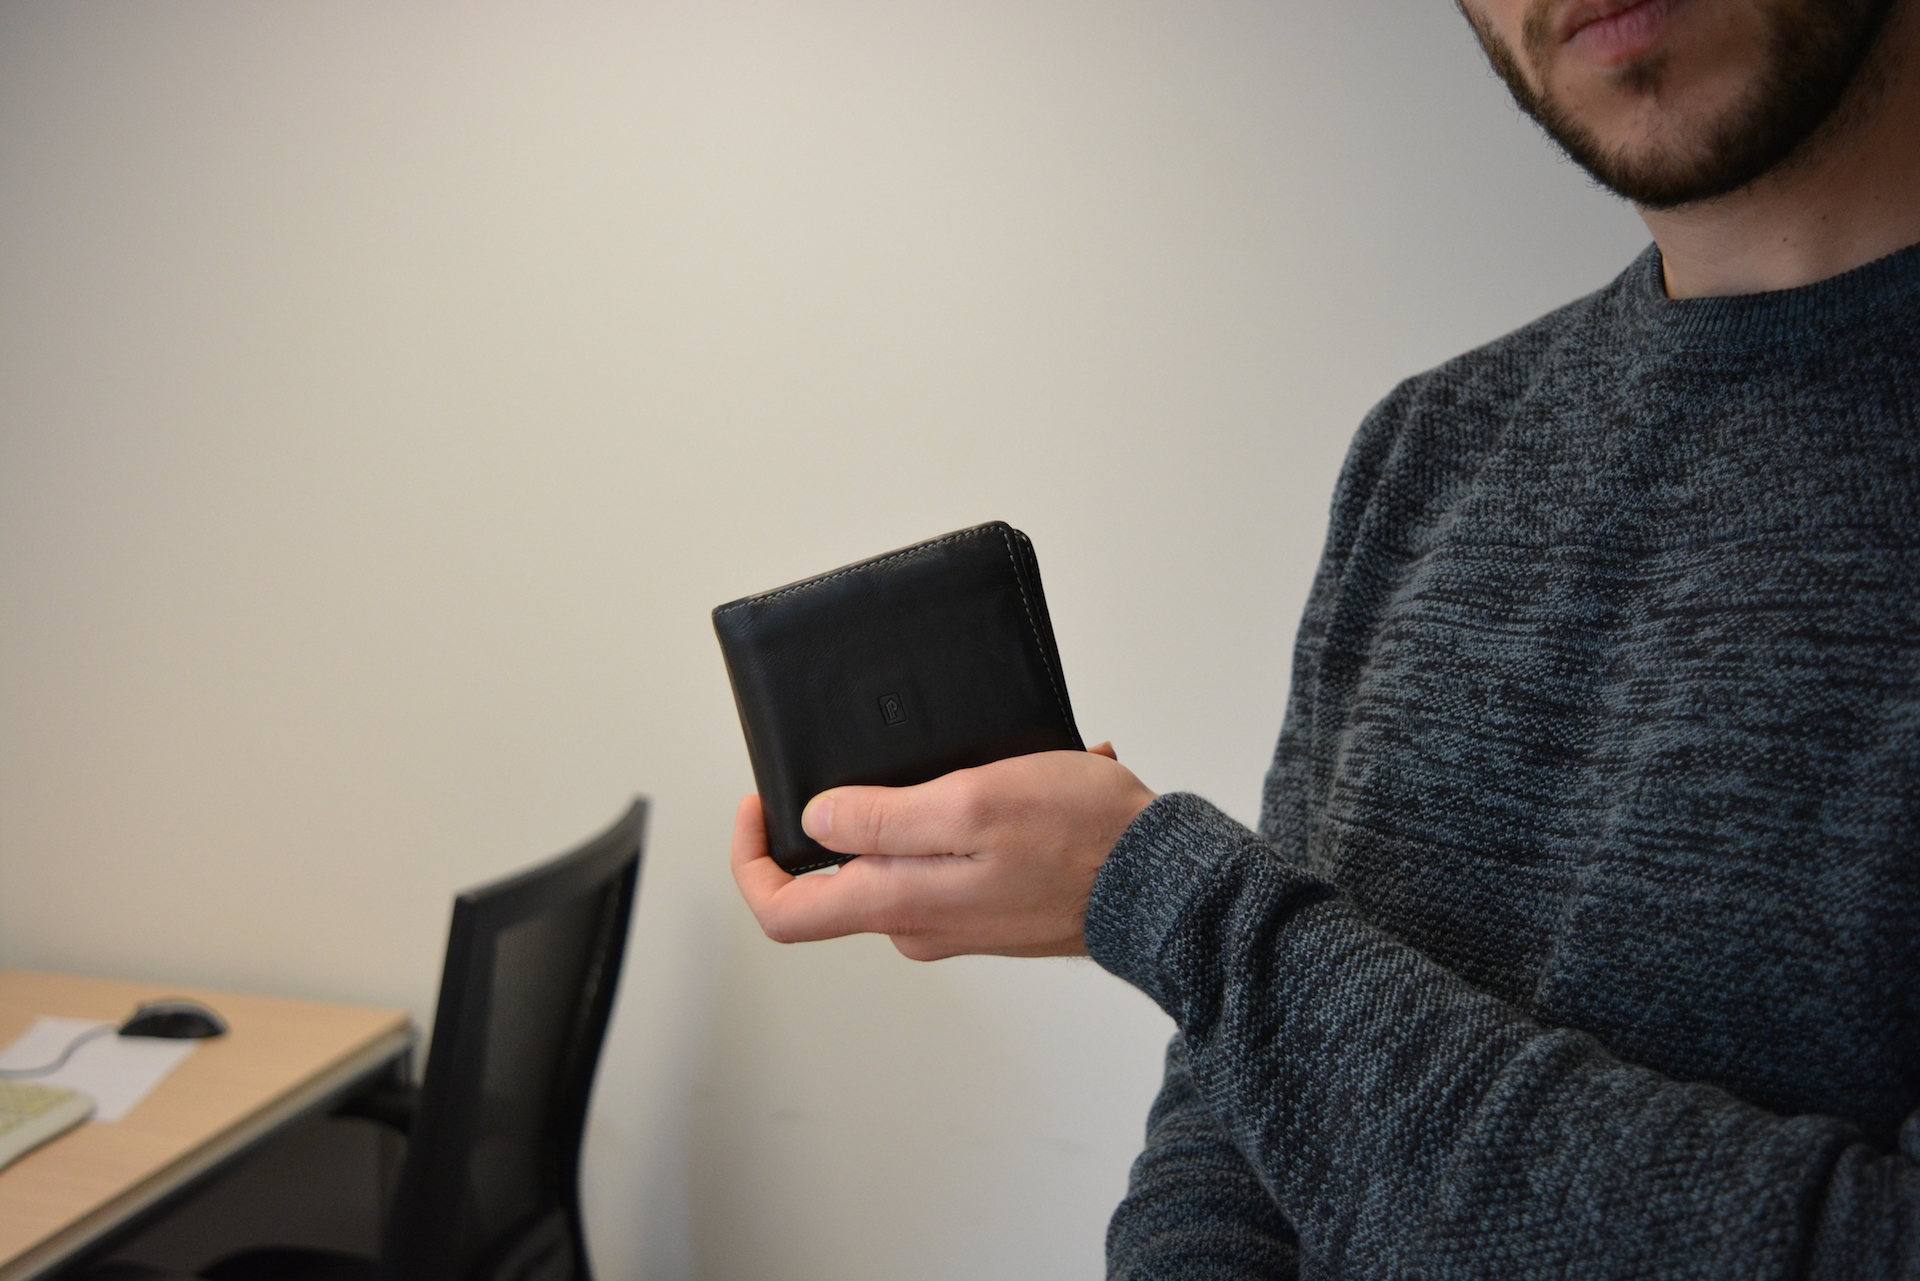monedero: (711, 518, 1094, 882)
